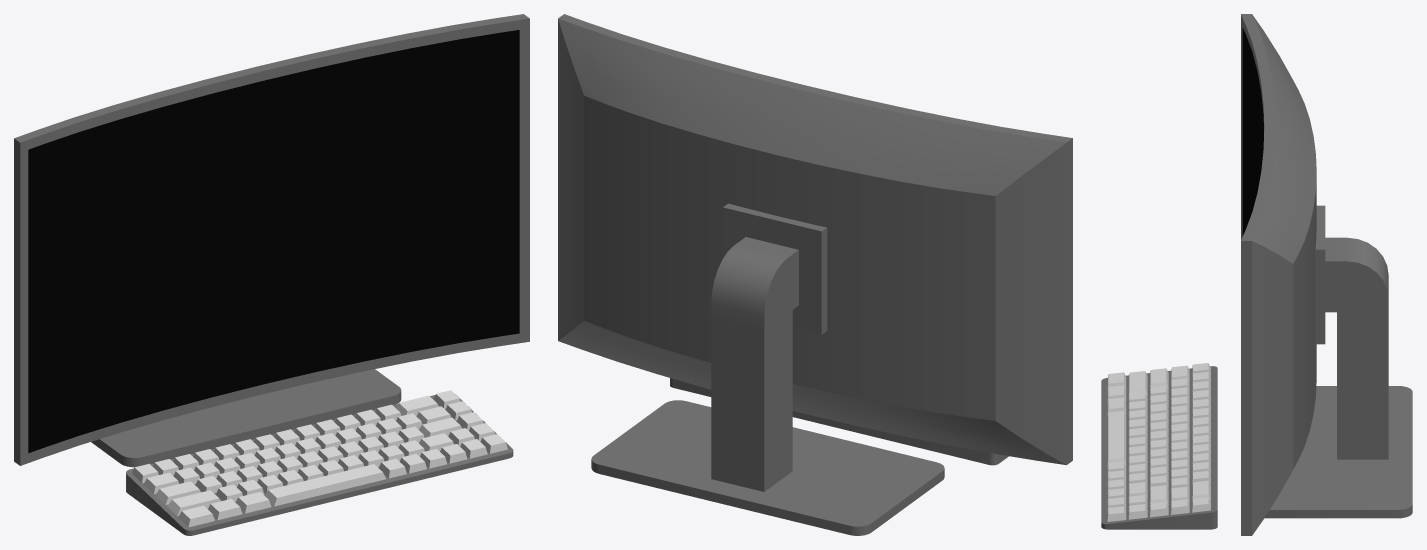
File: desktop_computer.glb
The picture shows the model from 3 angles, left to right: view 1: azimuth 30°, elevation 25°; view 2: azimuth 150°, elevation 25°; view 3: azimuth 270°, elevation 25°; orthographic projection. The views are drawn at different scales.
Parts seen in each view (by area): view 1: Cube.929; view 2: Cube.929; view 3: Cube.929.
Boxes of the visible parts, box(x1,y1,x2,y2) form: Cube.929: box(14, 14, 529, 535); Cube.929: box(558, 14, 1072, 535); Cube.929: box(1101, 14, 1412, 535).
Bounding box in the file's own units: 2.31 × 1.56 × 1.34.
1 material, 1 textured.
